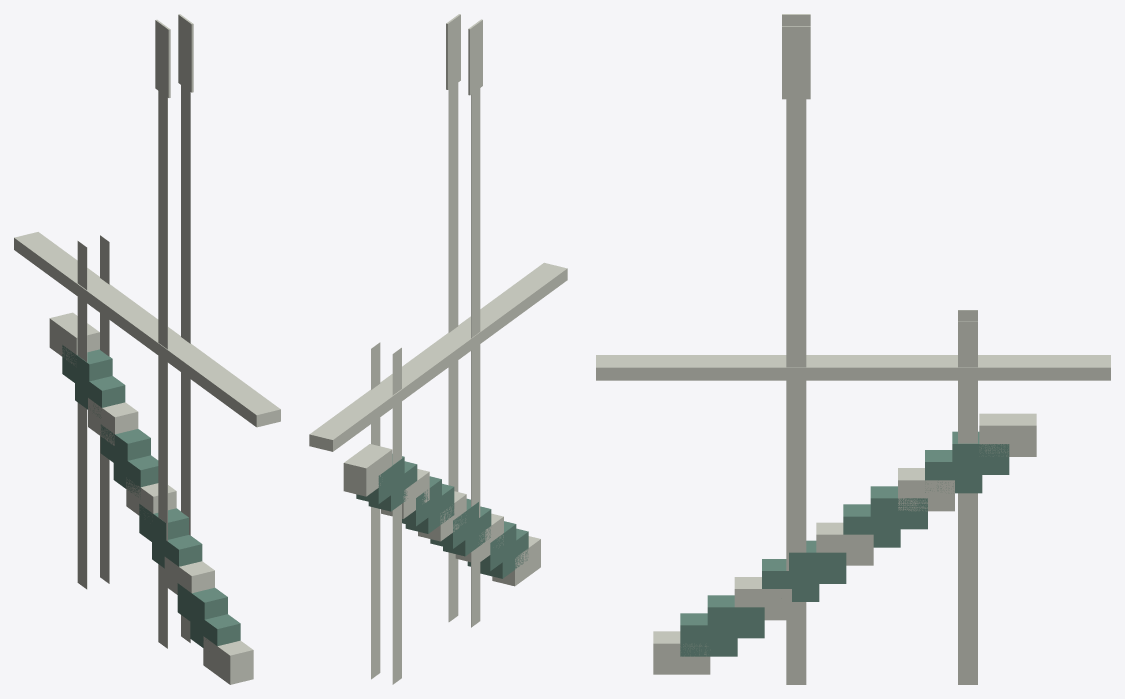
File: stand-level-4.glb
3 renders of one model, left to right at view 1: azimuth 30°, elevation 25°; view 2: azimuth 150°, elevation 25°; view 3: azimuth 270°, elevation 25°, orthographic. The views are drawn at different scales.
Parts seen in each view (by area): view 1: Cobertura, Torre--1, Torre-1, Sustentação--1, Sustentação-1, Degrau-0, Degrau-9, Degrau-2, Degrau-12, Degrau-11, Degrau-7, Degrau-5 (+8 smaller); view 2: Cobertura, Torre-1, Torre--1, Sustentação--1, Sustentação-1, Degrau-12, Degrau-7, Degrau-0, Refletor--1, Refletor-1, Degrau-1, Degrau-4 (+8 smaller); view 3: Cobertura, Torre-1, Sustentação-1, Degrau-12, Degrau-2, Degrau-1, Refletor-1, Degrau-9, Degrau-0, Degrau-10, Degrau-7, Degrau-6 (+5 smaller).
Boxes of the visible parts, <box> form: Cobertura: <box>14,232,280,427</box>; Torre--1: <box>158,91,167,648</box>; Torre-1: <box>181,85,190,642</box>; Sustentação--1: <box>77,241,87,589</box>; Sustentação-1: <box>100,235,109,583</box>; Degrau-0: <box>203,636,253,684</box>; Degrau-9: <box>88,398,138,445</box>; Degrau-2: <box>177,583,227,629</box>; Degrau-12: <box>49,312,99,365</box>; Degrau-11: <box>62,345,112,393</box>; Degrau-7: <box>113,451,158,497</box>; Degrau-5: <box>139,504,188,551</box>; Cobertura: <box>309,262,567,451</box>; Torre-1: <box>448,83,458,621</box>; Torre--1: <box>471,88,480,627</box>; Sustentação--1: <box>392,347,401,684</box>; Sustentação-1: <box>371,342,380,679</box>; Degrau-12: <box>343,444,392,496</box>; Degrau-7: <box>405,483,454,533</box>; Degrau-0: <box>492,536,540,586</box>; Refletor--1: <box>468,19,482,95</box>; Refletor-1: <box>446,14,460,89</box>; Degrau-1: <box>480,528,528,578</box>; Degrau-4: <box>443,506,491,556</box>; Cobertura: <box>596,355,1110,380</box>; Torre-1: <box>786,99,806,684</box>; Sustentação-1: <box>958,321,977,684</box>; Degrau-12: <box>979,413,1036,456</box>; Degrau-2: <box>707,595,764,638</box>; Degrau-1: <box>680,613,737,656</box>; Refletor-1: <box>782,26,810,99</box>; Degrau-9: <box>898,468,954,511</box>; Degrau-0: <box>653,631,710,674</box>; Degrau-10: <box>925,450,982,493</box>; Degrau-7: <box>843,504,900,547</box>; Degrau-6: <box>816,522,873,565</box>.
Size of the model in its own units: 1.06 by 25.4 by 18.
